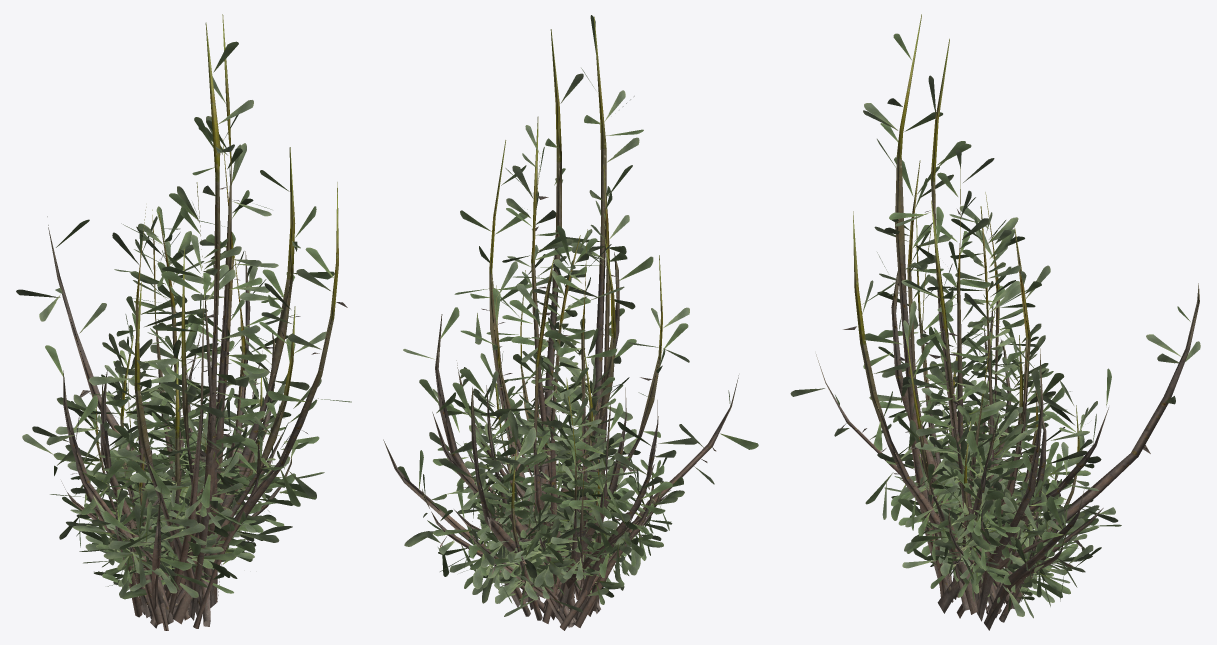
Rendered from myrte.glb.
The picture shows the model from 3 angles, left to right: view 1: azimuth 30°, elevation 25°; view 2: azimuth 150°, elevation 25°; view 3: azimuth 270°, elevation 25°; orthographic projection. The views are drawn at different scales.
Visible parts, largest first — view 1: othonna_cerarioides_c, othonna_cerarioides_d, othonna_cerarioides_e, othonna_cerarioides_f; view 2: othonna_cerarioides_c, othonna_cerarioides_d, othonna_cerarioides_e, othonna_cerarioides_f; view 3: othonna_cerarioides_c, othonna_cerarioides_d, othonna_cerarioides_e, othonna_cerarioides_f.
Part boxes in pixels (left/top/right/bottom): othonna_cerarioides_c: left=16, top=14, right=351, bottom=626; othonna_cerarioides_d: left=22, top=114, right=326, bottom=630; othonna_cerarioides_e: left=72, top=206, right=324, bottom=617; othonna_cerarioides_f: left=103, top=323, right=241, bottom=620; othonna_cerarioides_c: left=383, top=15, right=758, bottom=620; othonna_cerarioides_d: left=432, top=125, right=683, bottom=624; othonna_cerarioides_e: left=404, top=225, right=684, bottom=630; othonna_cerarioides_f: left=457, top=328, right=636, bottom=622; othonna_cerarioides_c: left=790, top=14, right=1200, bottom=630; othonna_cerarioides_d: left=869, top=149, right=1121, bottom=618; othonna_cerarioides_e: left=891, top=206, right=1101, bottom=618; othonna_cerarioides_f: left=891, top=317, right=1101, bottom=622.
Bounding box in the file's own units: 0.6807 × 1.41 × 0.8903.
1 material, 1 textured.
